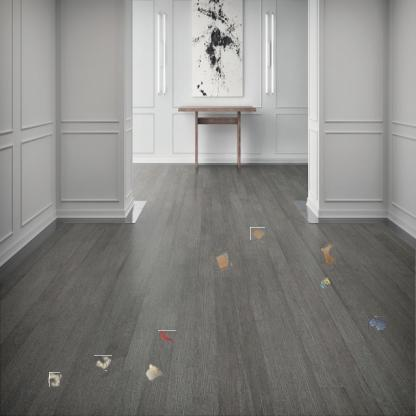dirty: (146, 362, 166, 382), (214, 252, 232, 271), (95, 355, 112, 371), (250, 226, 265, 241), (158, 330, 176, 341), (318, 276, 332, 290), (48, 373, 61, 386)
liquid: (320, 242, 336, 264), (368, 316, 386, 330)
